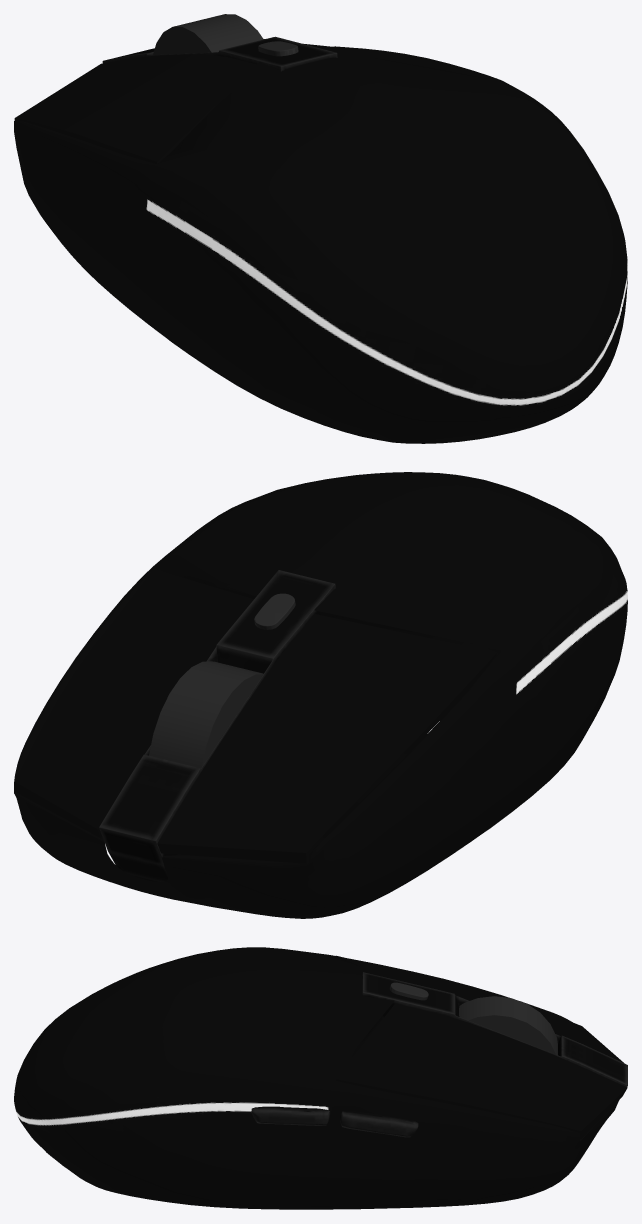
Rendered from mouse-logitech-g102_lod1.glb.
The picture shows the model from 3 angles, top to bottom: view 1: azimuth 30°, elevation 25°; view 2: azimuth 150°, elevation 25°; view 3: azimuth 270°, elevation 25°; orthographic projection. The views are drawn at different scales.
Parts seen in each view (by area): view 1: body; view 2: body; view 3: body.
Boxes of the visible parts, x1,y1,x2,y2 form: body: (14, 14, 627, 443); body: (14, 472, 627, 918); body: (14, 947, 627, 1209).
Bounding box in the file's own units: 0.0622 × 0.0382 × 0.1166.
3 materials, 2 textured.
